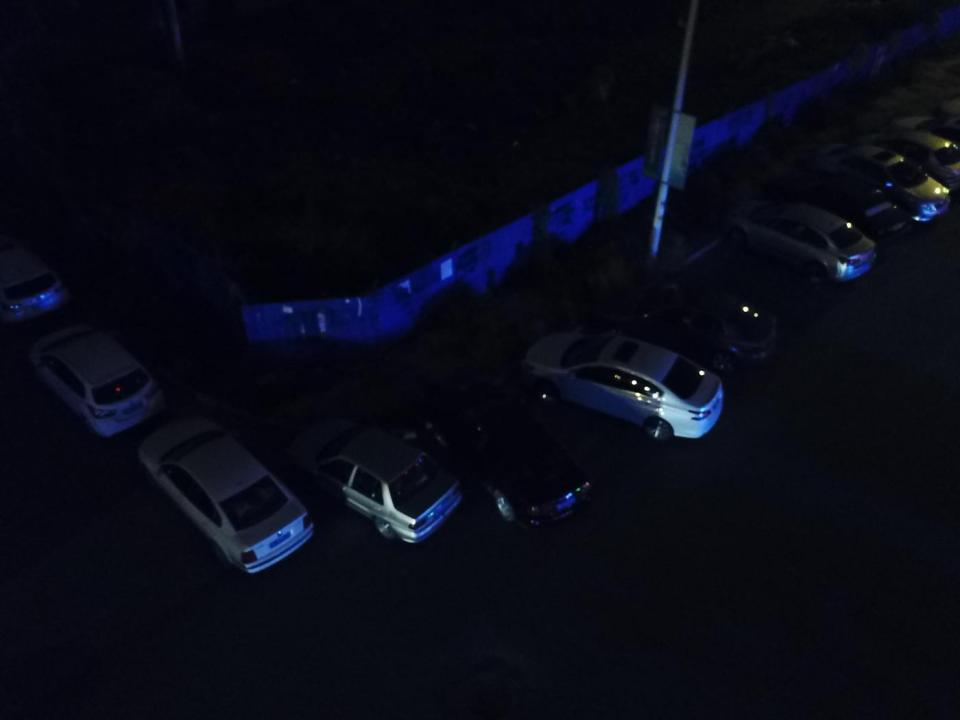car: (137, 414, 316, 575), (523, 328, 726, 446), (289, 414, 465, 545), (426, 398, 596, 530), (590, 280, 779, 371), (28, 322, 166, 440), (724, 197, 879, 283), (816, 141, 951, 226), (768, 171, 906, 240), (862, 130, 960, 199), (0, 233, 71, 327)
